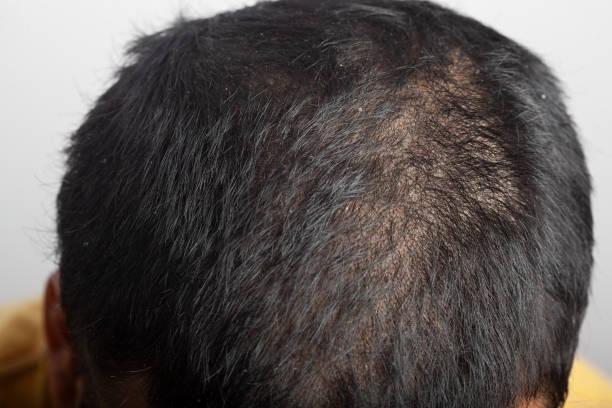dandruff: (98, 154, 113, 171), (79, 237, 94, 251), (355, 102, 367, 116), (334, 59, 348, 71), (540, 89, 551, 104), (255, 29, 268, 41), (221, 84, 234, 95)
